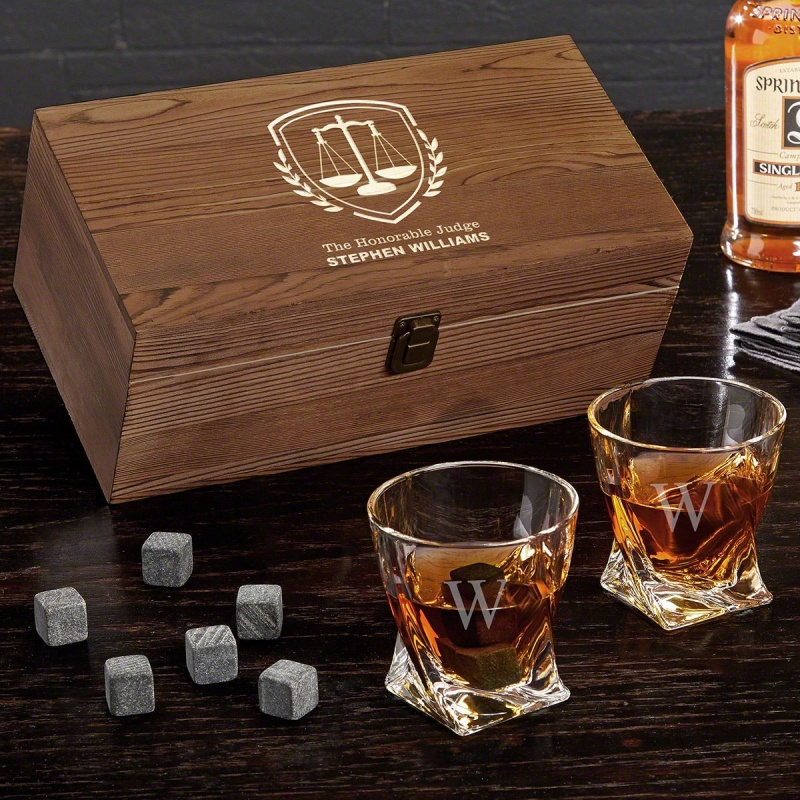whiskey: (373, 458, 575, 720), (589, 376, 778, 624)
